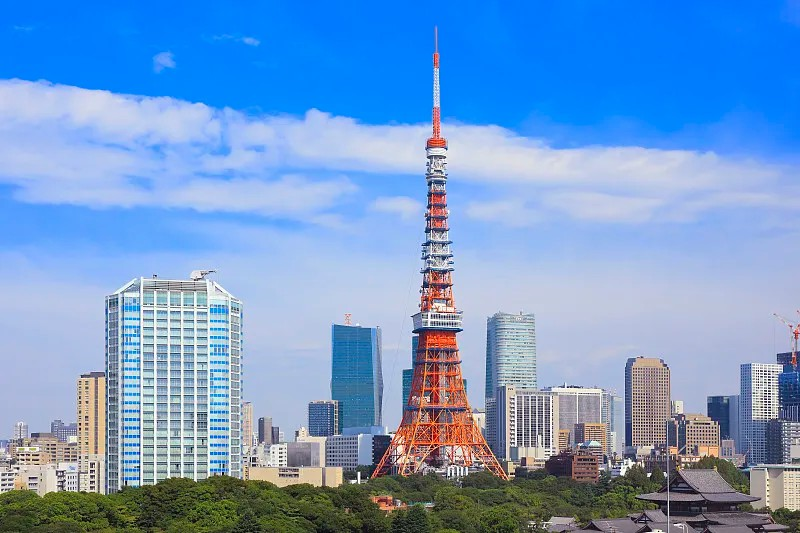Tokyo: (371, 24, 510, 482)
